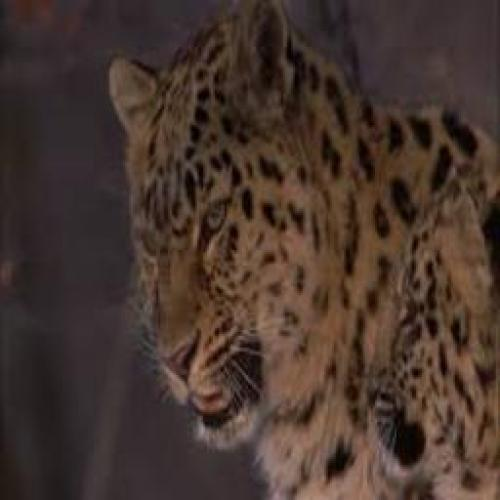amur_leopard-endangered: (108, 0, 373, 498), (368, 160, 500, 500)
